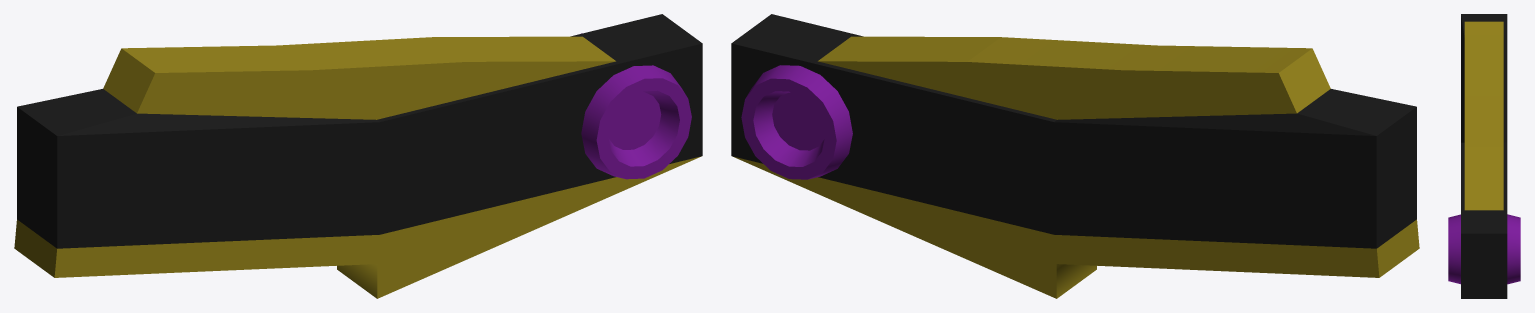
File: pedalier.fbx
3 renders of one model, left to right at view 1: azimuth 30°, elevation 25°; view 2: azimuth 150°, elevation 25°; view 3: azimuth 270°, elevation 25°, orthographic. The views are drawn at different scales.
Parts seen in each view (by area): view 1: Box068; view 2: Box068; view 3: Box068.
Boxes of the visible parts, bbox=[...] form: Box068: bbox=[14, 14, 702, 298]; Box068: bbox=[731, 14, 1419, 298]; Box068: bbox=[1448, 14, 1520, 298].
Size of the model in its own units: 0.5701 by 0.2328 by 0.0949.
